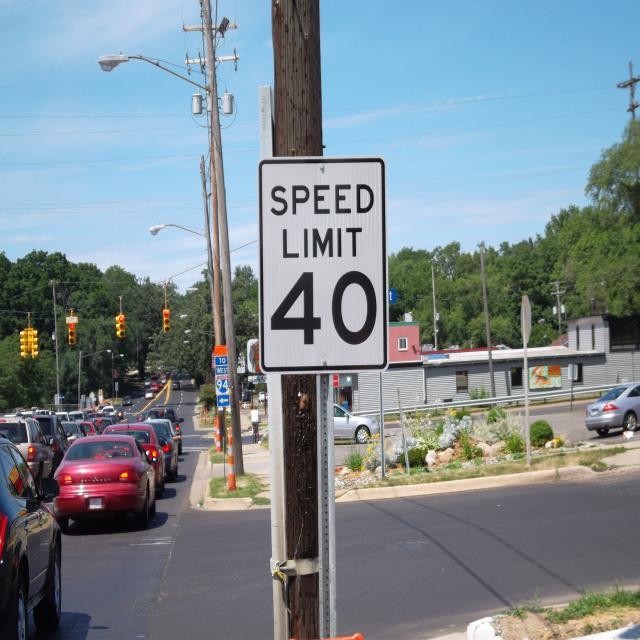regulatory: (255, 152, 391, 378)
